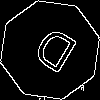D: (25, 25, 80, 83)
